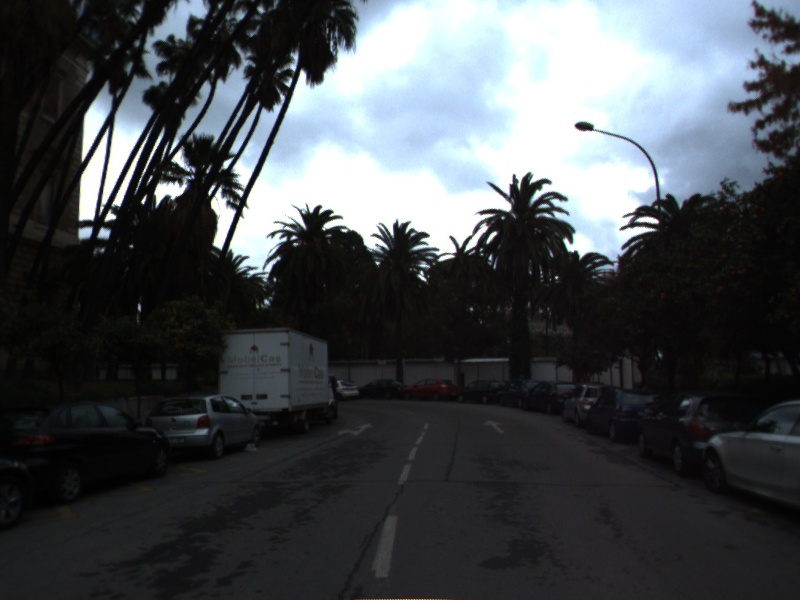STRAIGHT: (481, 418, 507, 435)
STRAIGHT_LEFT: (335, 421, 377, 438)
